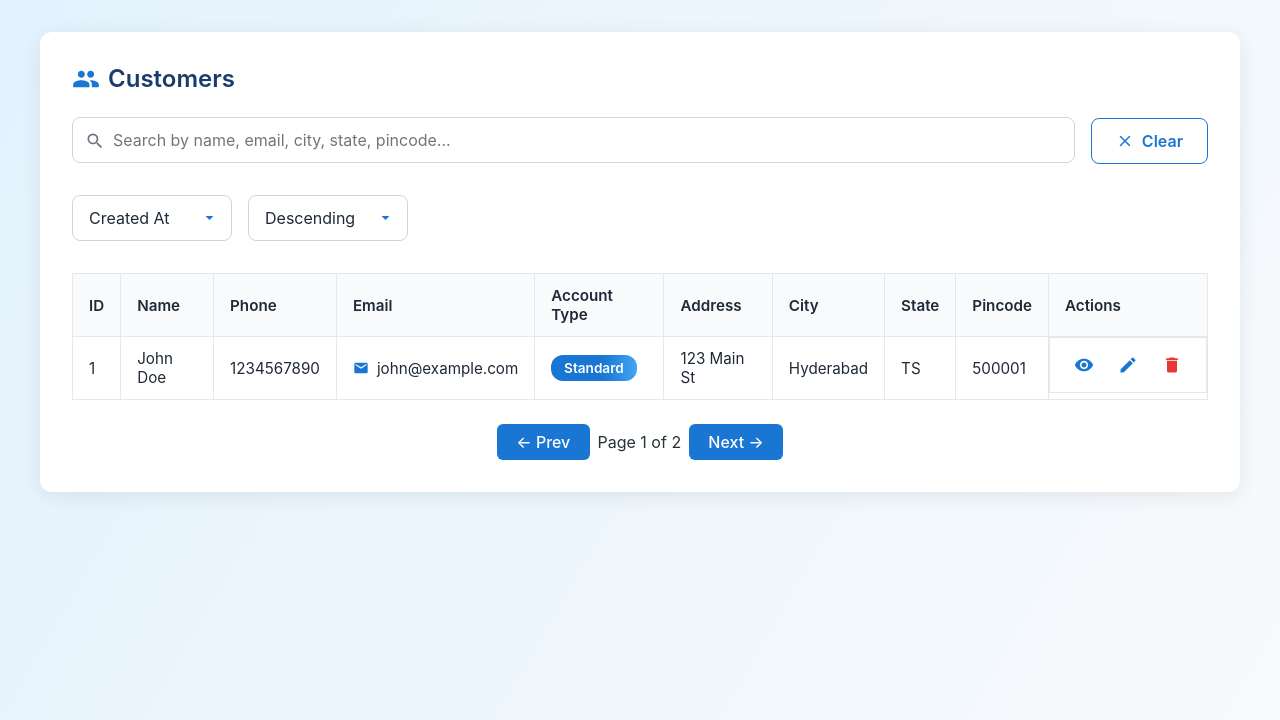
Scenario: CustomerList Component › pagination buttons work
Check: the text "Page 1 of 2" is shown, box [598,432,681,452]
Click the button with aria-label "Next page". click: (736, 442)
box: [689,424,783,460]
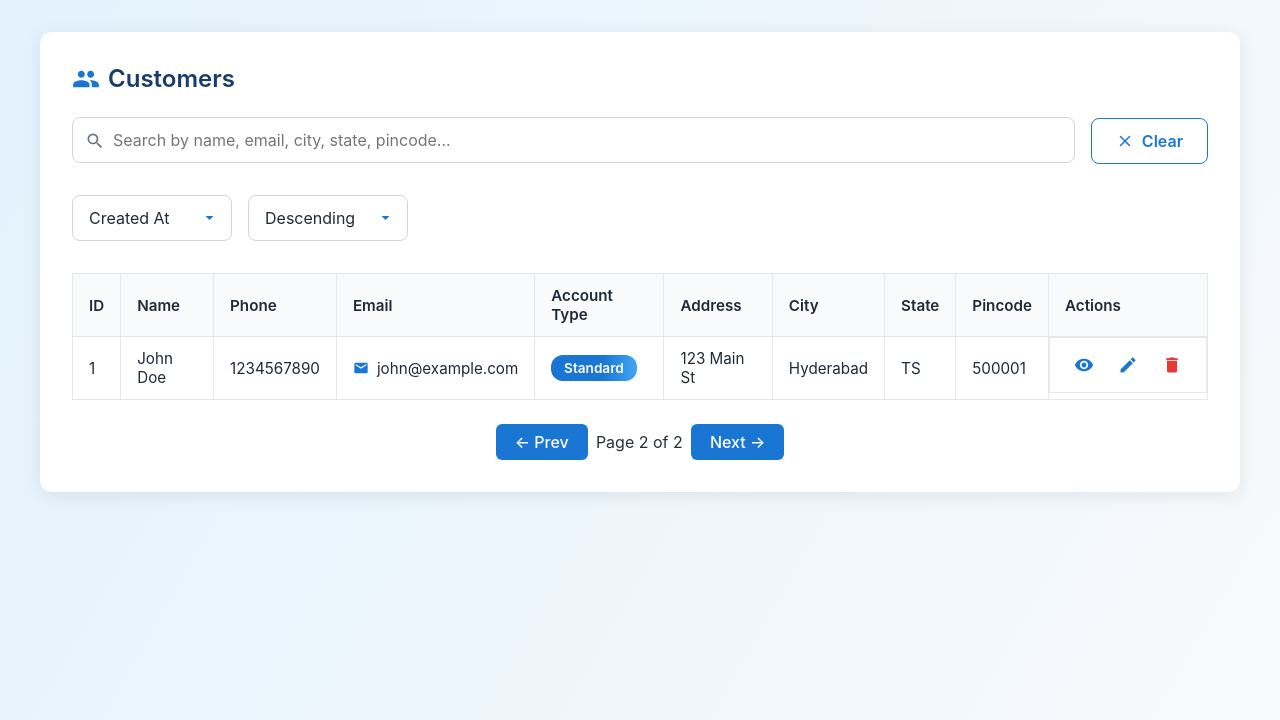
Check: the text "Page 2 of 2" is shown, box [596,432,683,452]
